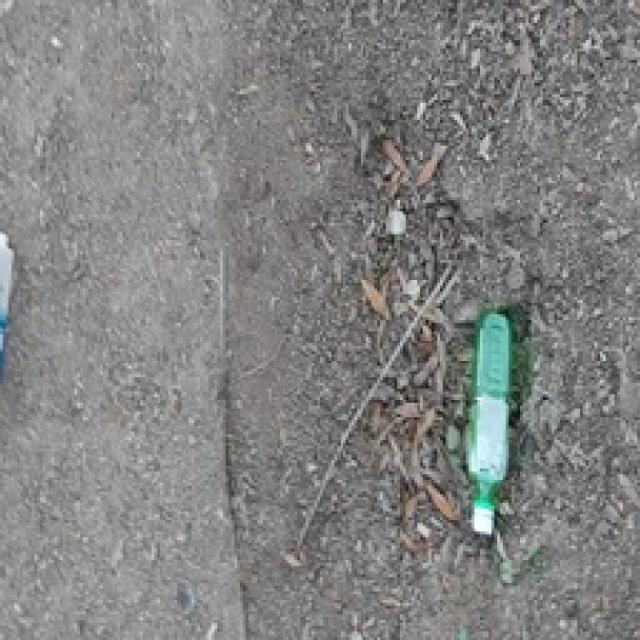Plastic: (464, 312, 516, 545)
